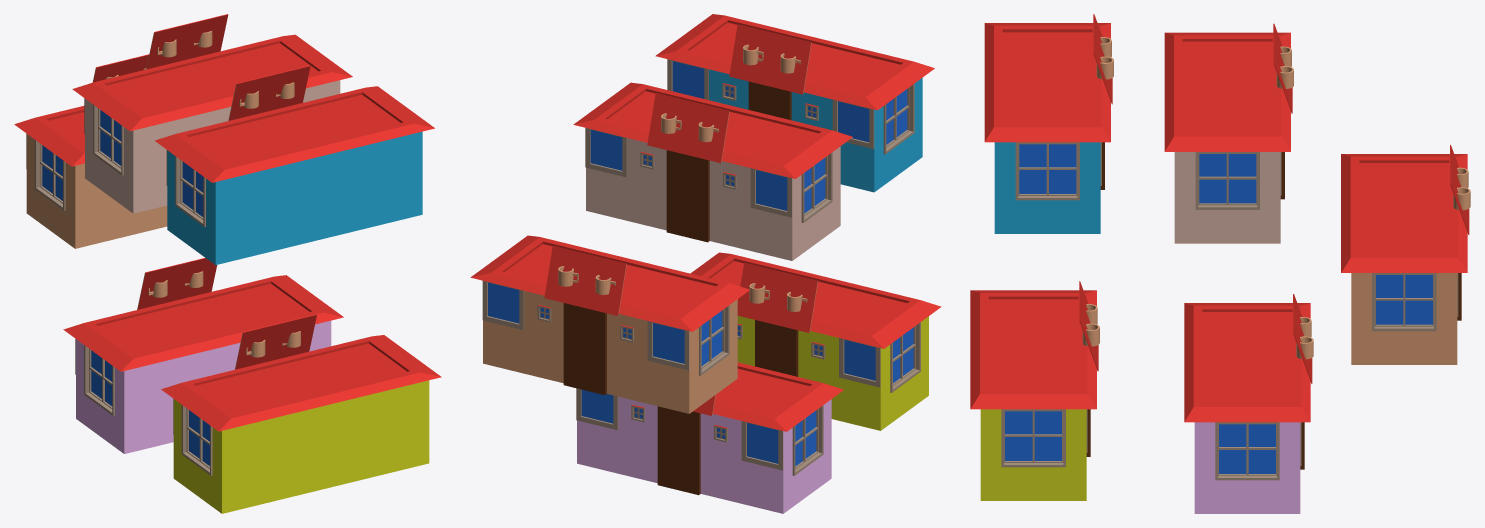
File: Station.fbx
The picture shows the model from 3 angles, left to right: view 1: azimuth 30°, elevation 25°; view 2: azimuth 150°, elevation 25°; view 3: azimuth 270°, elevation 25°; orthographic projection. The views are drawn at different scales.
Visible parts, largest first — view 1: Cube.006, Cube.008, Cube.002, Cube.004, Cube, Cube.005, Cube.007, Cube.009, Cube.003, Cube.001; view 2: Cube.004, Cube, Cube.002, Cube.008, Cube.006, Cube.001, Cube.005, Cube.009, Cube.007; view 3: Cube.004, Cube.008, Cube.006, Cube.002, Cube, Cube.001, Cube.007, Cube.005, Cube.003, Cube.009.
Boxes of the visible parts, x1=… form: Cube.006: x1=161, y1=335, x2=441, y2=513; Cube.008: x1=155, y1=86, x2=434, y2=265; Cube.002: x1=63, y1=275, x2=343, y2=453; Cube.004: x1=72, y1=34, x2=352, y2=213; Cube: x1=14, y1=106, x2=167, y2=248; Cube.005: x1=146, y1=14, x2=228, y2=69; Cube.007: x1=235, y1=314, x2=316, y2=369; Cube.009: x1=228, y1=65, x2=310, y2=120; Cube.003: x1=137, y1=258, x2=217, y2=309; Cube.001: x1=92, y1=54, x2=149, y2=82; Cube.004: x1=573, y1=82, x2=852, y2=260; Cube: x1=470, y1=235, x2=749, y2=413; Cube.002: x1=576, y1=362, x2=843, y2=513; Cube.008: x1=655, y1=14, x2=934, y2=192; Cube.006: x1=690, y1=252, x2=941, y2=430; Cube.001: x1=544, y1=246, x2=626, y2=315; Cube.005: x1=647, y1=93, x2=729, y2=163; Cube.009: x1=729, y1=24, x2=811, y2=94; Cube.007: x1=737, y1=263, x2=817, y2=332; Cube.004: x1=1164, y1=32, x2=1290, y2=243; Cube.008: x1=984, y1=23, x2=1110, y2=233; Cube.006: x1=970, y1=290, x2=1096, y2=500; Cube.002: x1=1184, y1=303, x2=1310, y2=513; Cube: x1=1341, y1=154, x2=1467, y2=364; Cube.001: x1=1450, y1=145, x2=1470, y2=234; Cube.007: x1=1079, y1=281, x2=1099, y2=371; Cube.005: x1=1273, y1=23, x2=1293, y2=113; Cube.003: x1=1293, y1=294, x2=1313, y2=383; Cube.009: x1=1093, y1=14, x2=1113, y2=104.
Bounding box in the file's own units: 3590 × 5415 × 5780.
